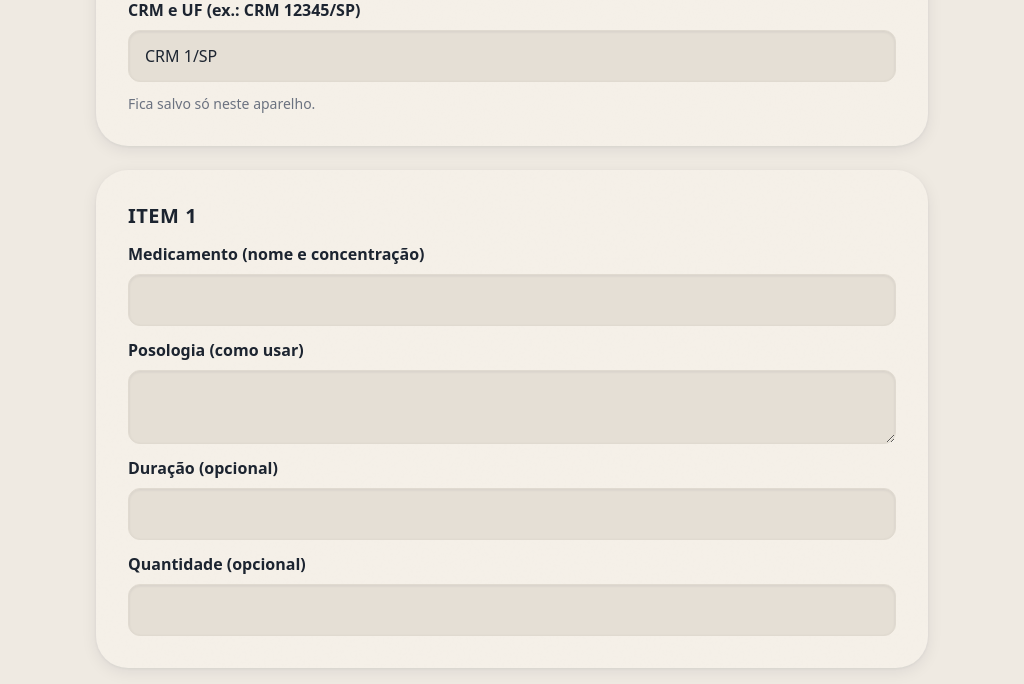
Test: tela de receita › bloqueia item com medicamento sem posologia
(page scrolled)
Type "Dipirona" into the field labelled "Medicamento (nome e concentração)". click: (512, 300)
box: left=128, top=274, right=896, bottom=326
(page scrolled)
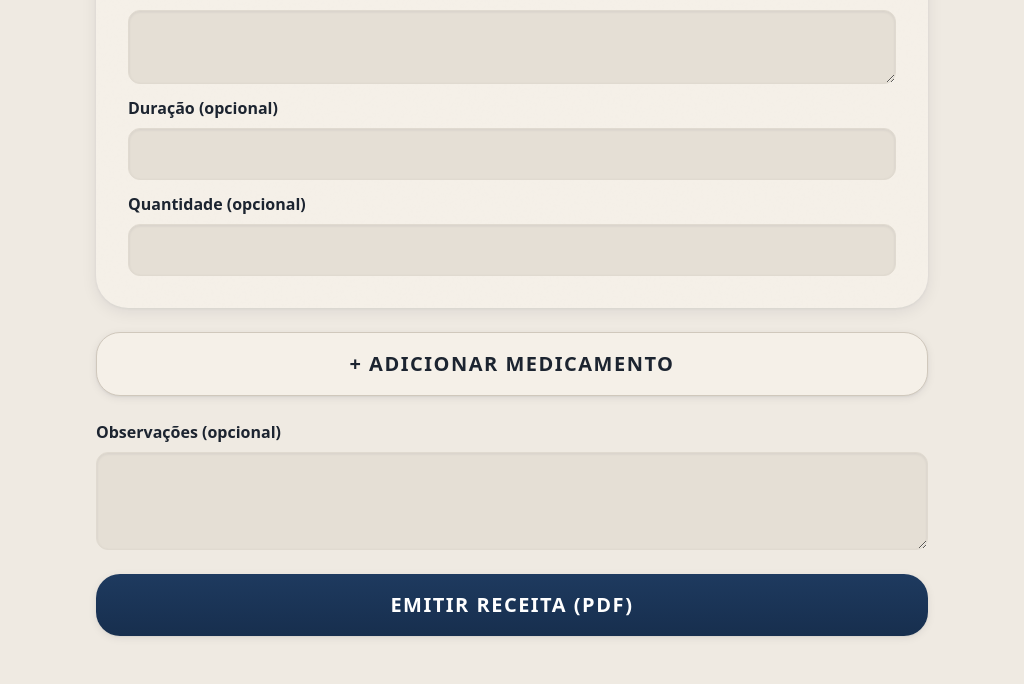
Click the button "EMITIR RECEITA (PDF)". click: (512, 605)
box: left=96, top=574, right=928, bottom=636
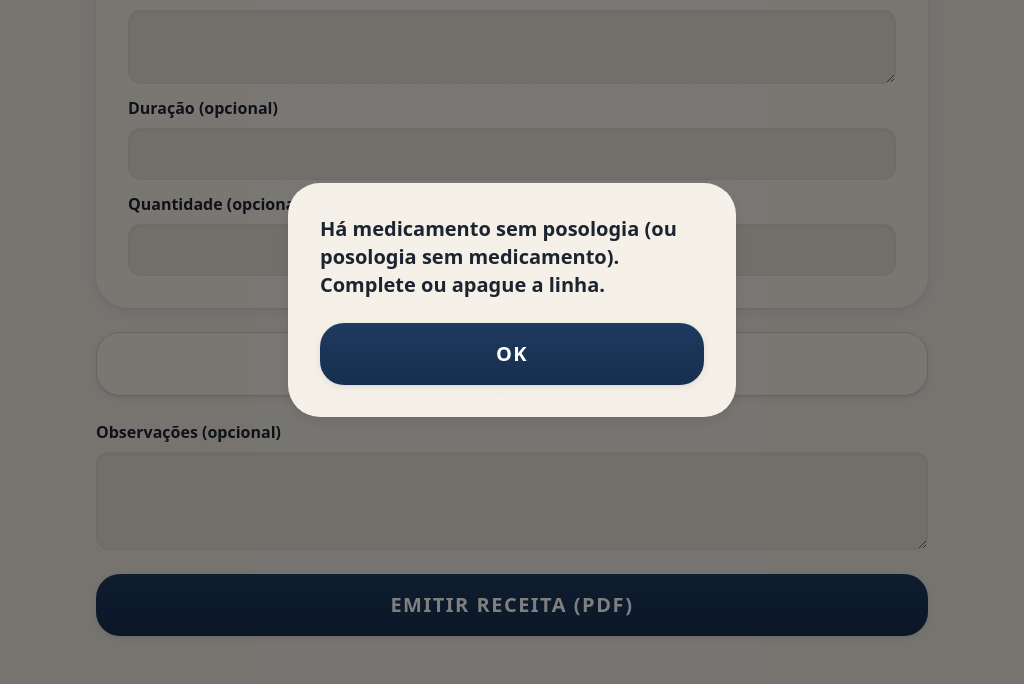
expect the text "sem posologia" is shown: met, box left=320, top=215, right=677, bottom=298
